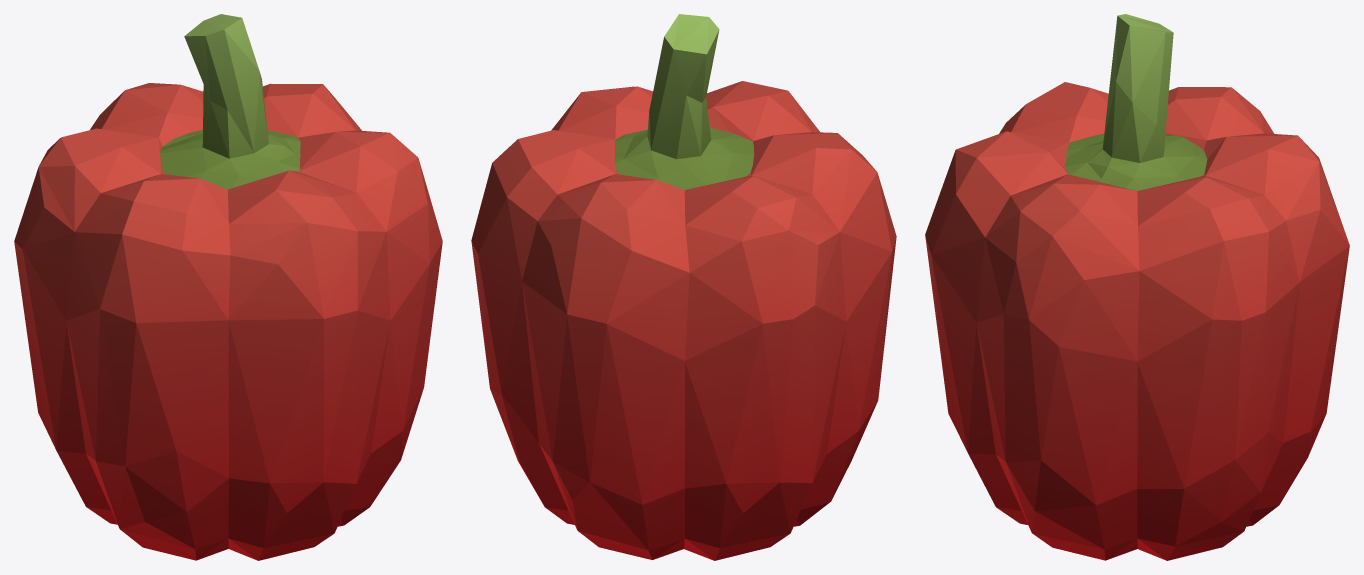
Rendered from SM_Food_Pepper_Red.fbx.
3 renders of one model, left to right at view 1: azimuth 30°, elevation 25°; view 2: azimuth 150°, elevation 25°; view 3: azimuth 270°, elevation 25°, orthographic.
Parts seen in each view (by area): view 1: SM_Food_Pepper_Red; view 2: SM_Food_Pepper_Red; view 3: SM_Food_Pepper_Red.
Boxes of the visible parts, <box> form: SM_Food_Pepper_Red: <box>14,14,442,560</box>; SM_Food_Pepper_Red: <box>471,14,896,560</box>; SM_Food_Pepper_Red: <box>925,14,1349,560</box>.
Bounding box in the file's own units: 14.03 × 20.16 × 15.44.
